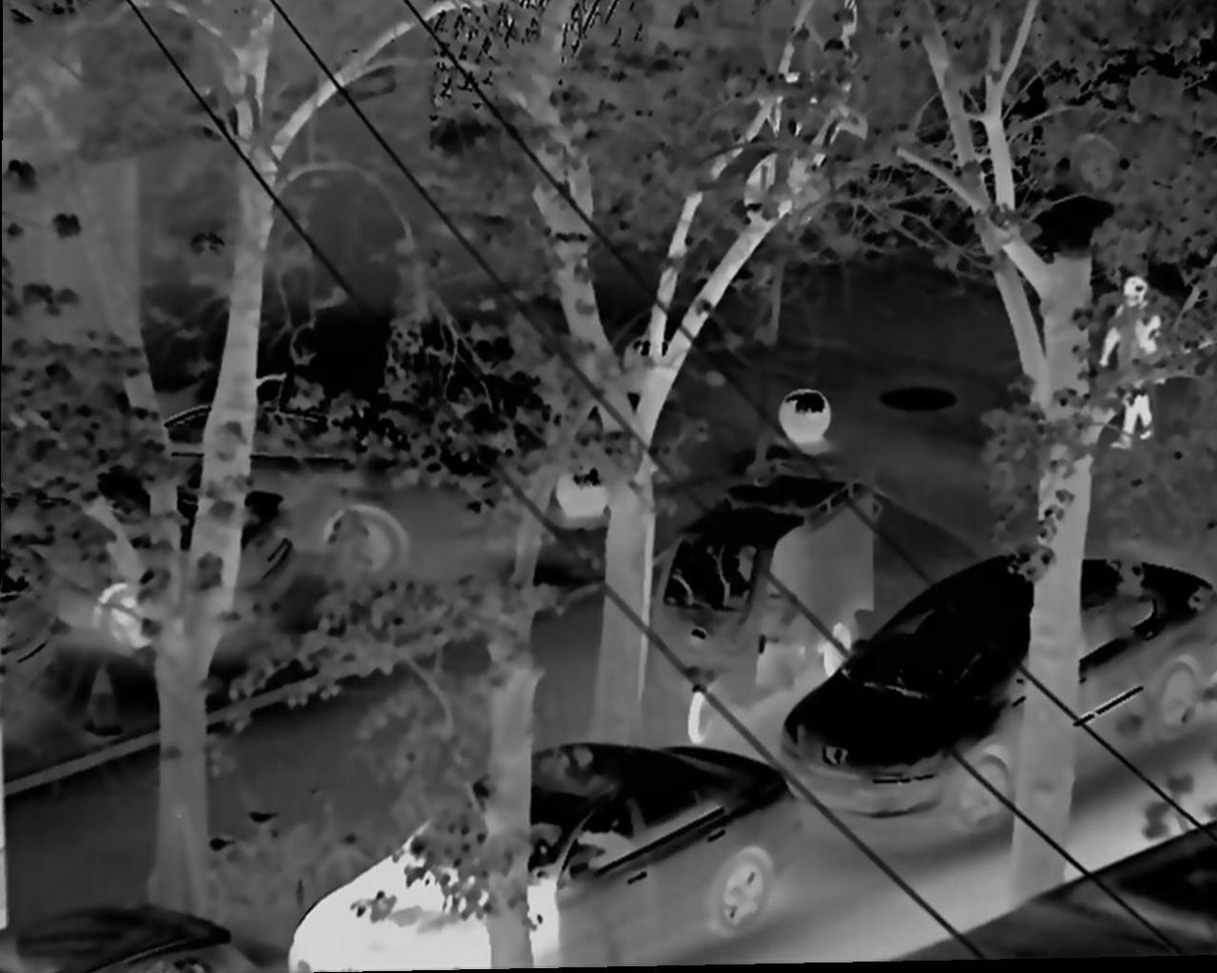person: (1099, 267, 1164, 445)
